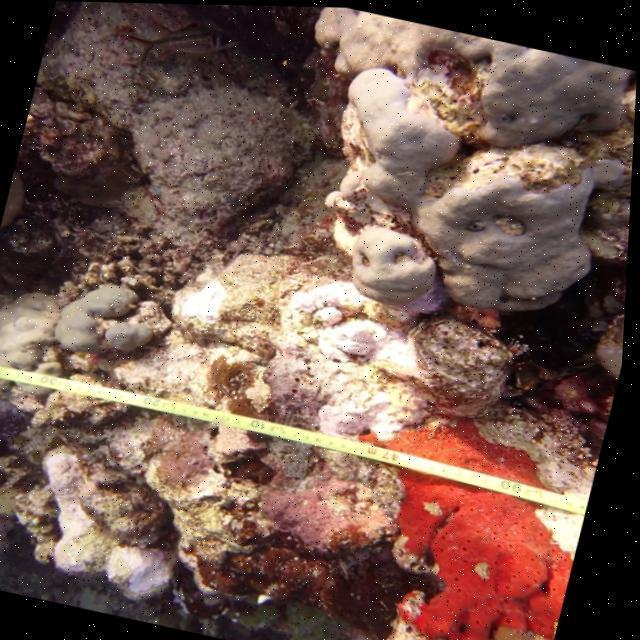Bleached Coral: (280, 274, 448, 452)
